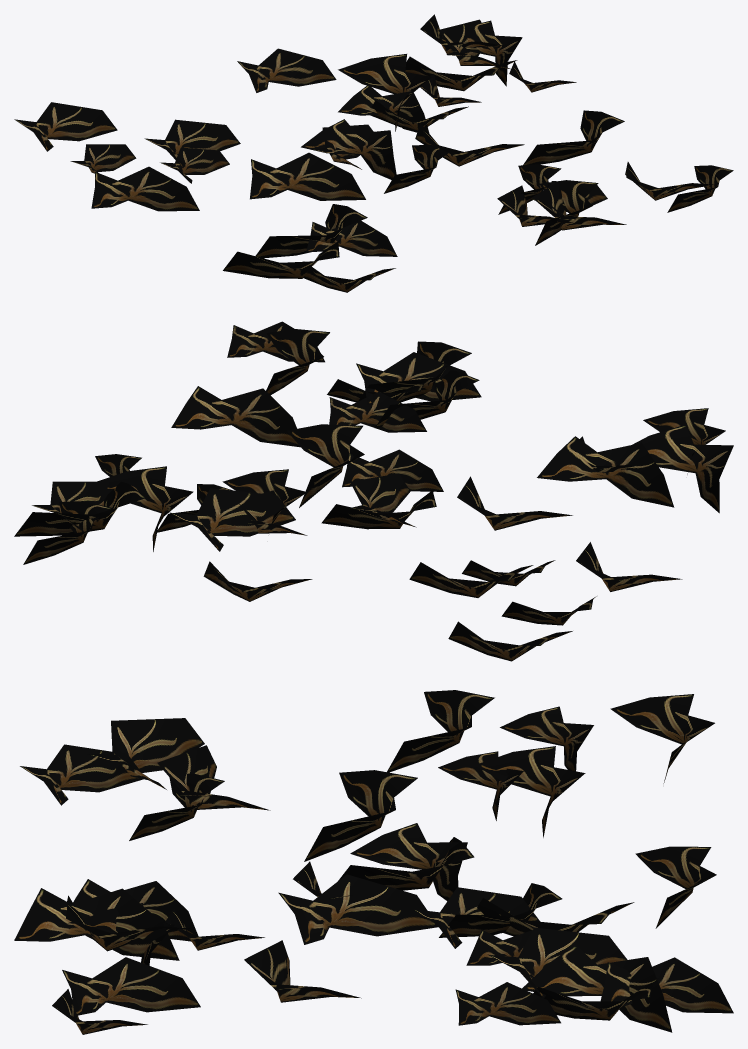
Rendered from SM_DryGrassPatch.glb.
3 renders of one model, top to bottom at view 1: azimuth 30°, elevation 25°; view 2: azimuth 150°, elevation 25°; view 3: azimuth 270°, elevation 25°, orthographic. The views are drawn at different scales.
Visible parts, largest first — view 1: SM_DryGrassPatch; view 2: SM_DryGrassPatch; view 3: SM_DryGrassPatch.
Part boxes in pixels (bbox=[...]): SM_DryGrassPatch: bbox=[14, 14, 733, 292]; SM_DryGrassPatch: bbox=[14, 321, 733, 661]; SM_DryGrassPatch: bbox=[14, 690, 733, 1034].
Bounding box in the file's own units: 3.8 × 0.2276 × 3.41.
Materials: 1 (1 with a texture image).
